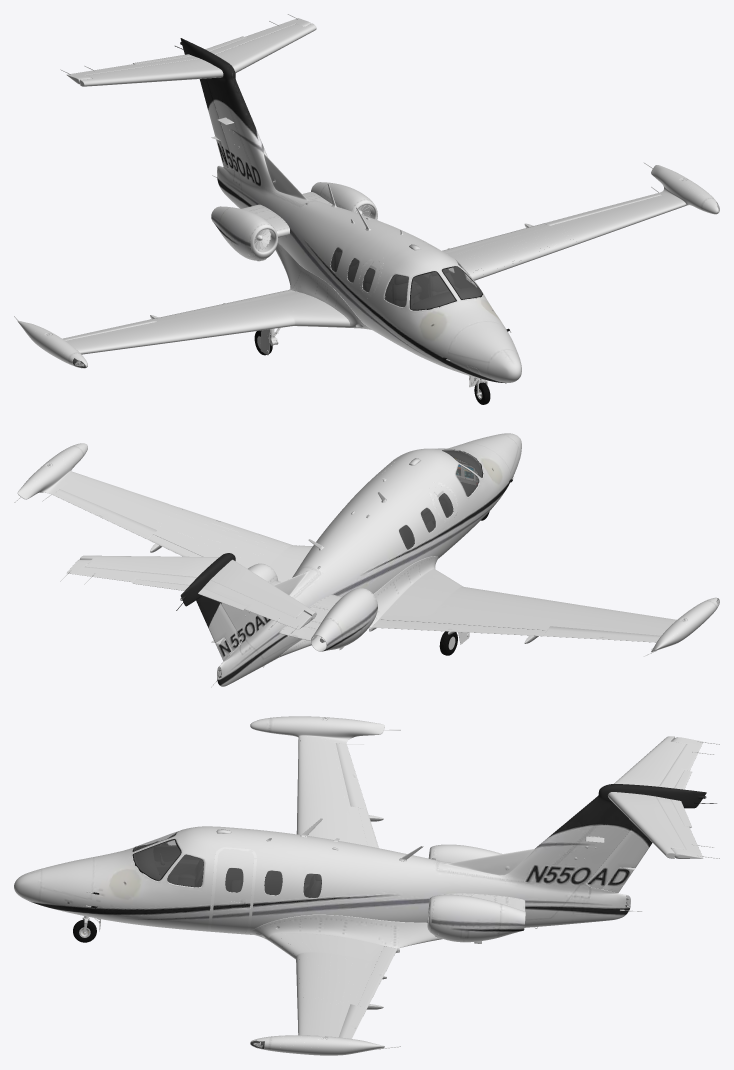
The picture shows the model from 3 angles, top to bottom: view 1: azimuth 30°, elevation 25°; view 2: azimuth 150°, elevation 25°; view 3: azimuth 270°, elevation 25°; orthographic projection. The views are drawn at different scales.
Parts seen in each view (by area): view 1: tire_lndg_rear_l_in.011_24, tire_lndg_rear_l_in.033_15, tire_lndg_rear_l_in.030_18, tire_lndg_rear_l_in.044_4, tire_lndg_rear_l_in.031_17, tire_lndg_rear_l_in.032_16, tire_lndg_rear_l_in.027_21; view 2: tire_lndg_rear_l_in.011_24, tire_lndg_rear_l_in.033_15, tire_lndg_rear_l_in.030_18, tire_lndg_rear_l_in.044_4, tire_lndg_rear_l_in.031_17; view 3: tire_lndg_rear_l_in.011_24, tire_lndg_rear_l_in.033_15, tire_lndg_rear_l_in.030_18, tire_lndg_rear_l_in.044_4, tire_lndg_rear_l_in.032_16, tire_lndg_rear_l_in.031_17.
Boxes of the visible parts, x1,y1,x2,y2 form: tire_lndg_rear_l_in.011_24: [17, 18, 718, 383]; tire_lndg_rear_l_in.033_15: [331, 248, 482, 309]; tire_lndg_rear_l_in.030_18: [331, 248, 481, 309]; tire_lndg_rear_l_in.044_4: [14, 14, 658, 399]; tire_lndg_rear_l_in.031_17: [73, 46, 509, 367]; tire_lndg_rear_l_in.032_16: [45, 176, 686, 363]; tire_lndg_rear_l_in.027_21: [250, 200, 377, 258]; tire_lndg_rear_l_in.011_24: [17, 433, 718, 686]; tire_lndg_rear_l_in.033_15: [399, 448, 482, 549]; tire_lndg_rear_l_in.030_18: [399, 451, 482, 549]; tire_lndg_rear_l_in.044_4: [14, 458, 656, 687]; tire_lndg_rear_l_in.031_17: [176, 451, 718, 678]; tire_lndg_rear_l_in.011_24: [14, 716, 706, 1055]; tire_lndg_rear_l_in.033_15: [134, 831, 321, 897]; tire_lndg_rear_l_in.030_18: [134, 835, 321, 897]; tire_lndg_rear_l_in.044_4: [79, 729, 719, 1049]; tire_lndg_rear_l_in.032_16: [86, 717, 630, 1044]; tire_lndg_rear_l_in.031_17: [91, 740, 716, 1048].
Bounding box in the file's own units: 11.6 × 2.94 × 10.56.
14 materials, 2 textured.
